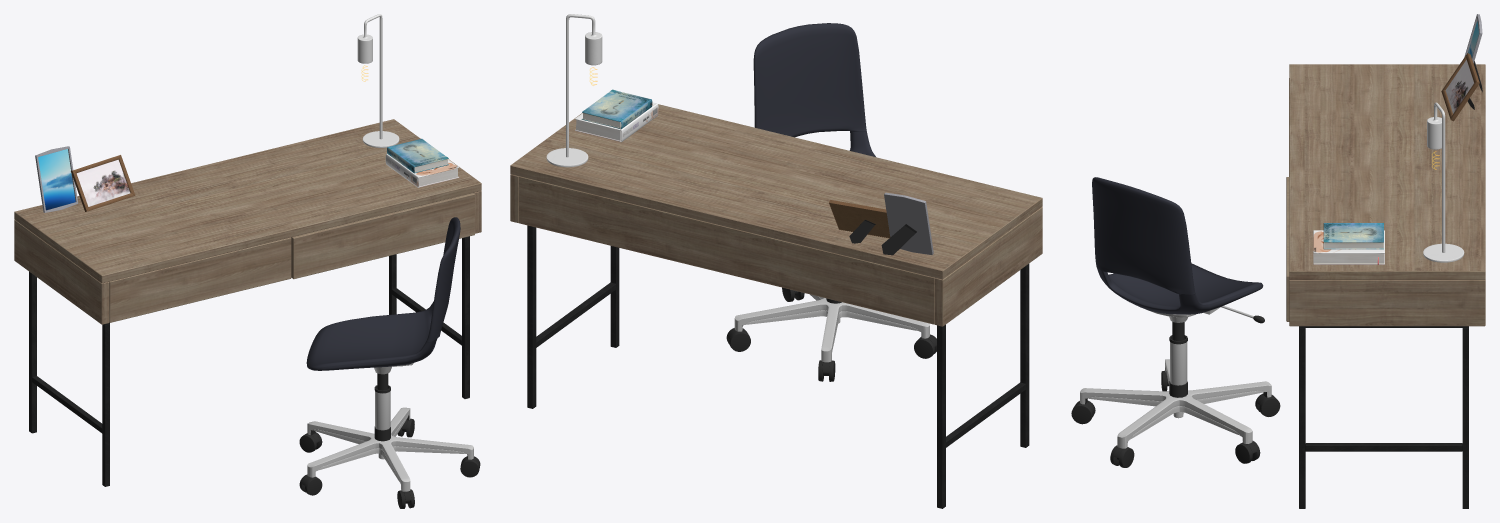
Rendered from desk_set.glb.
3 views of the same model, side by side, from view 1: azimuth 30°, elevation 25°; view 2: azimuth 150°, elevation 25°; view 3: azimuth 270°, elevation 25° (orthographic). The views are drawn at different scales.
Visible parts, largest first — view 1: Desk, Office-Chair_Office-Chair_0, Desk-Door_02_Desk_0, Desk-Door_01_Desk_0, Photography_Type1, Photography_Type2, Table-Lamp_Table-Lamp_0, Book-Type2, Book-Type1; view 2: Desk, Office-Chair_Office-Chair_0, Photography_Type2, Table-Lamp_Table-Lamp_0, Photography_Type1, Book-Type2, Book-Type1; view 3: Desk, Office-Chair_Office-Chair_0, Table-Lamp_Table-Lamp_0, Book-Type2, Photography_Type1, Book-Type1, Desk-Door_01_Desk_0, Photography_Type2.
Boxes of the visible parts, bbox=[...] form: Desk: bbox=[14, 119, 481, 486]; Office-Chair_Office-Chair_0: bbox=[299, 217, 480, 508]; Desk-Door_02_Desk_0: bbox=[109, 237, 291, 322]; Desk-Door_01_Desk_0: bbox=[291, 193, 474, 279]; Photography_Type1: bbox=[71, 155, 135, 211]; Photography_Type2: bbox=[35, 146, 78, 212]; Table-Lamp_Table-Lamp_0: bbox=[357, 14, 399, 147]; Book-Type2: bbox=[387, 138, 448, 173]; Book-Type1: bbox=[385, 154, 459, 187]; Desk: bbox=[510, 104, 1042, 508]; Office-Chair_Office-Chair_0: bbox=[726, 23, 936, 381]; Photography_Type2: bbox=[881, 192, 933, 255]; Table-Lamp_Table-Lamp_0: bbox=[546, 14, 602, 167]; Photography_Type1: bbox=[829, 200, 890, 243]; Book-Type2: bbox=[581, 89, 652, 129]; Book-Type1: bbox=[575, 102, 658, 142]; Desk: bbox=[1289, 64, 1485, 508]; Office-Chair_Office-Chair_0: bbox=[1071, 177, 1280, 467]; Table-Lamp_Table-Lamp_0: bbox=[1423, 102, 1464, 262]; Book-Type2: bbox=[1323, 223, 1383, 249]; Photography_Type1: bbox=[1441, 53, 1479, 121]; Book-Type1: bbox=[1313, 230, 1384, 264]; Desk-Door_01_Desk_0: bbox=[1286, 177, 1289, 321]; Photography_Type2: bbox=[1464, 14, 1482, 92].
Bounding box in the file's own units: 1500 × 1296 × 1266.
8 materials, 8 textured.
